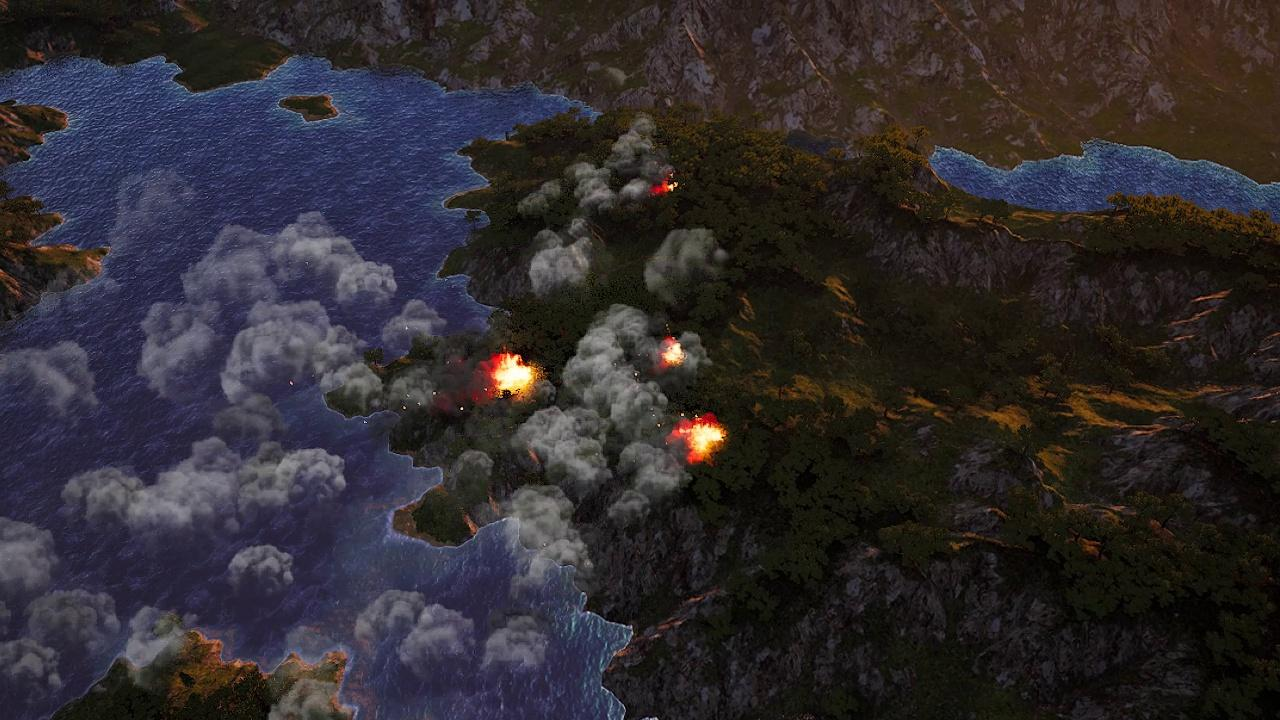fire: (678, 416, 727, 461), (490, 355, 535, 396), (662, 339, 687, 369), (652, 179, 673, 197)
smoke: (0, 213, 475, 699), (484, 116, 736, 675), (62, 434, 347, 544), (12, 337, 99, 417), (118, 602, 188, 690), (0, 514, 59, 598), (227, 545, 299, 594)
